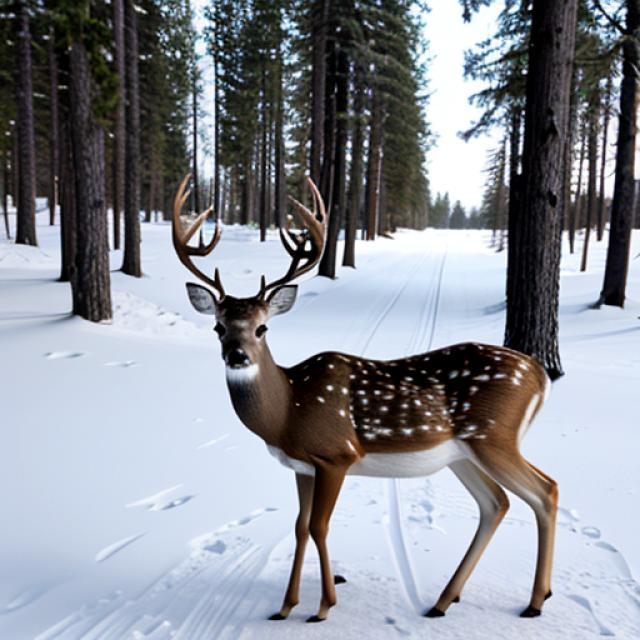deer: (143, 174, 567, 634)
